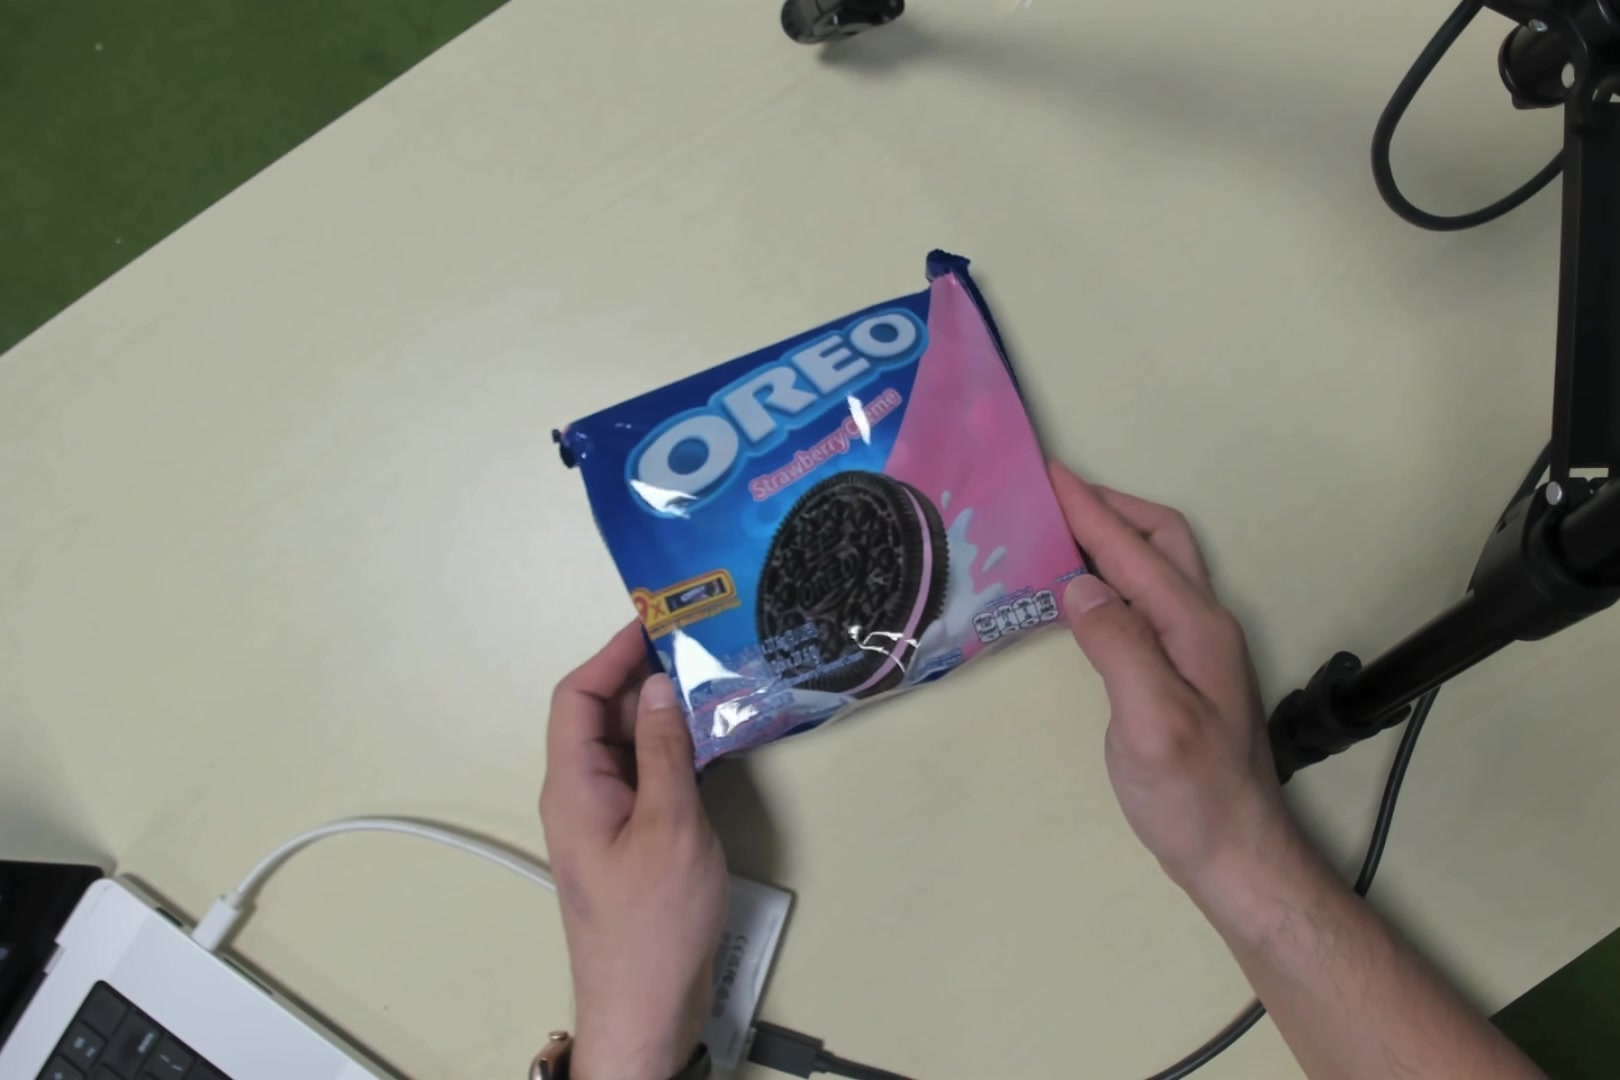SweetsChocolatesOthers_200-299g_Halal_NonHealthy: (583, 317, 1102, 715)
